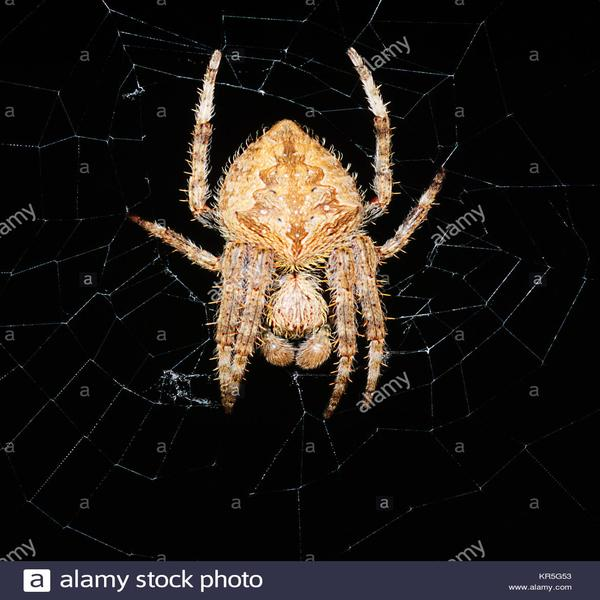Garden Orb Weaver Spider: (149, 55, 433, 405)
